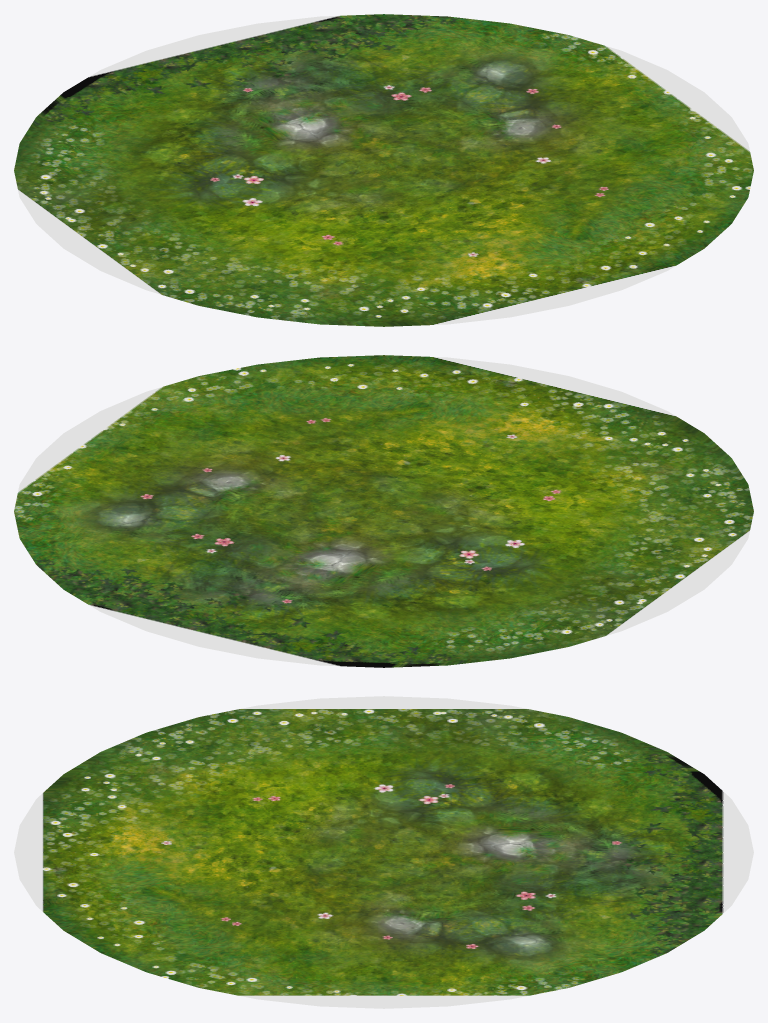
Rendered from Meadow.fbx.
The picture shows the model from 3 angles, top to bottom: view 1: azimuth 30°, elevation 25°; view 2: azimuth 150°, elevation 25°; view 3: azimuth 270°, elevation 25°; orthographic projection.
Parts seen in each view (by area): view 1: Meadow; view 2: Meadow; view 3: Meadow.
Part boxes in pixels (bbox=[...]): Meadow: bbox=[14, 14, 753, 326]; Meadow: bbox=[14, 355, 753, 667]; Meadow: bbox=[14, 696, 753, 1008].
Bounding box in the file's own units: 650 × 0 × 650.
1 material, 1 textured.
